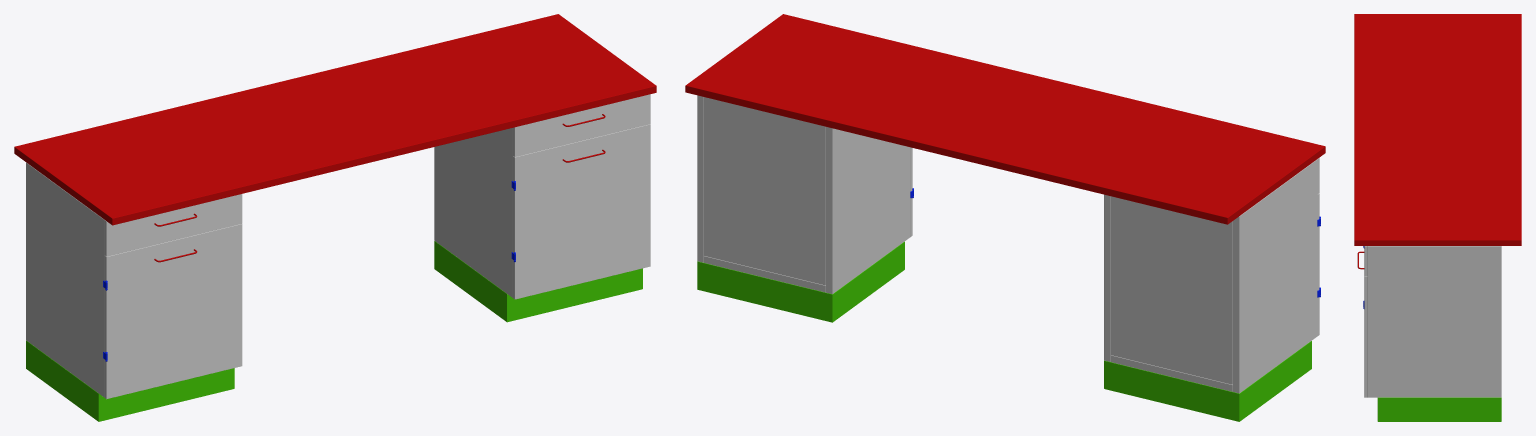
Rendered from Bench03.fbx.
The picture shows the model from 3 angles, left to right: view 1: azimuth 30°, elevation 25°; view 2: azimuth 150°, elevation 25°; view 3: azimuth 270°, elevation 25°; orthographic projection. The views are drawn at different scales.
Visible parts, largest first — view 1: Bench03, Drawer02, Drawer04, Drawer01, Drawer03; view 2: Bench03; view 3: Bench03, Drawer04.
Boxes of the visible parts, x1=… form: Bench03: x1=14, y1=14, x2=656, y2=421; Drawer02: x1=104, y1=224, x2=242, y2=399; Drawer04: x1=513, y1=124, x2=650, y2=299; Drawer01: x1=104, y1=194, x2=242, y2=256; Drawer03: x1=513, y1=94, x2=650, y2=156; Bench03: x1=685, y1=14, x2=1325, y2=421; Bench03: x1=1354, y1=14, x2=1521, y2=421; Drawer04: x1=1357, y1=251, x2=1367, y2=397.
Bounding box in the file's own units: 200 × 62.5 × 75.
